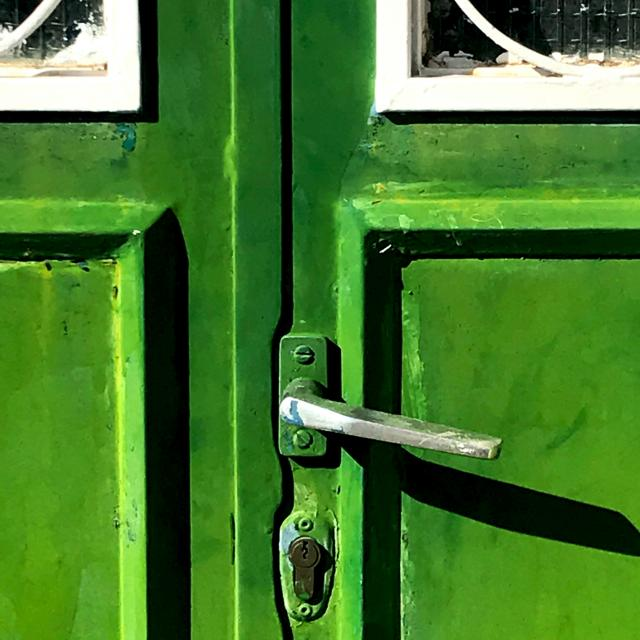door-handle: (279, 378, 503, 462)
